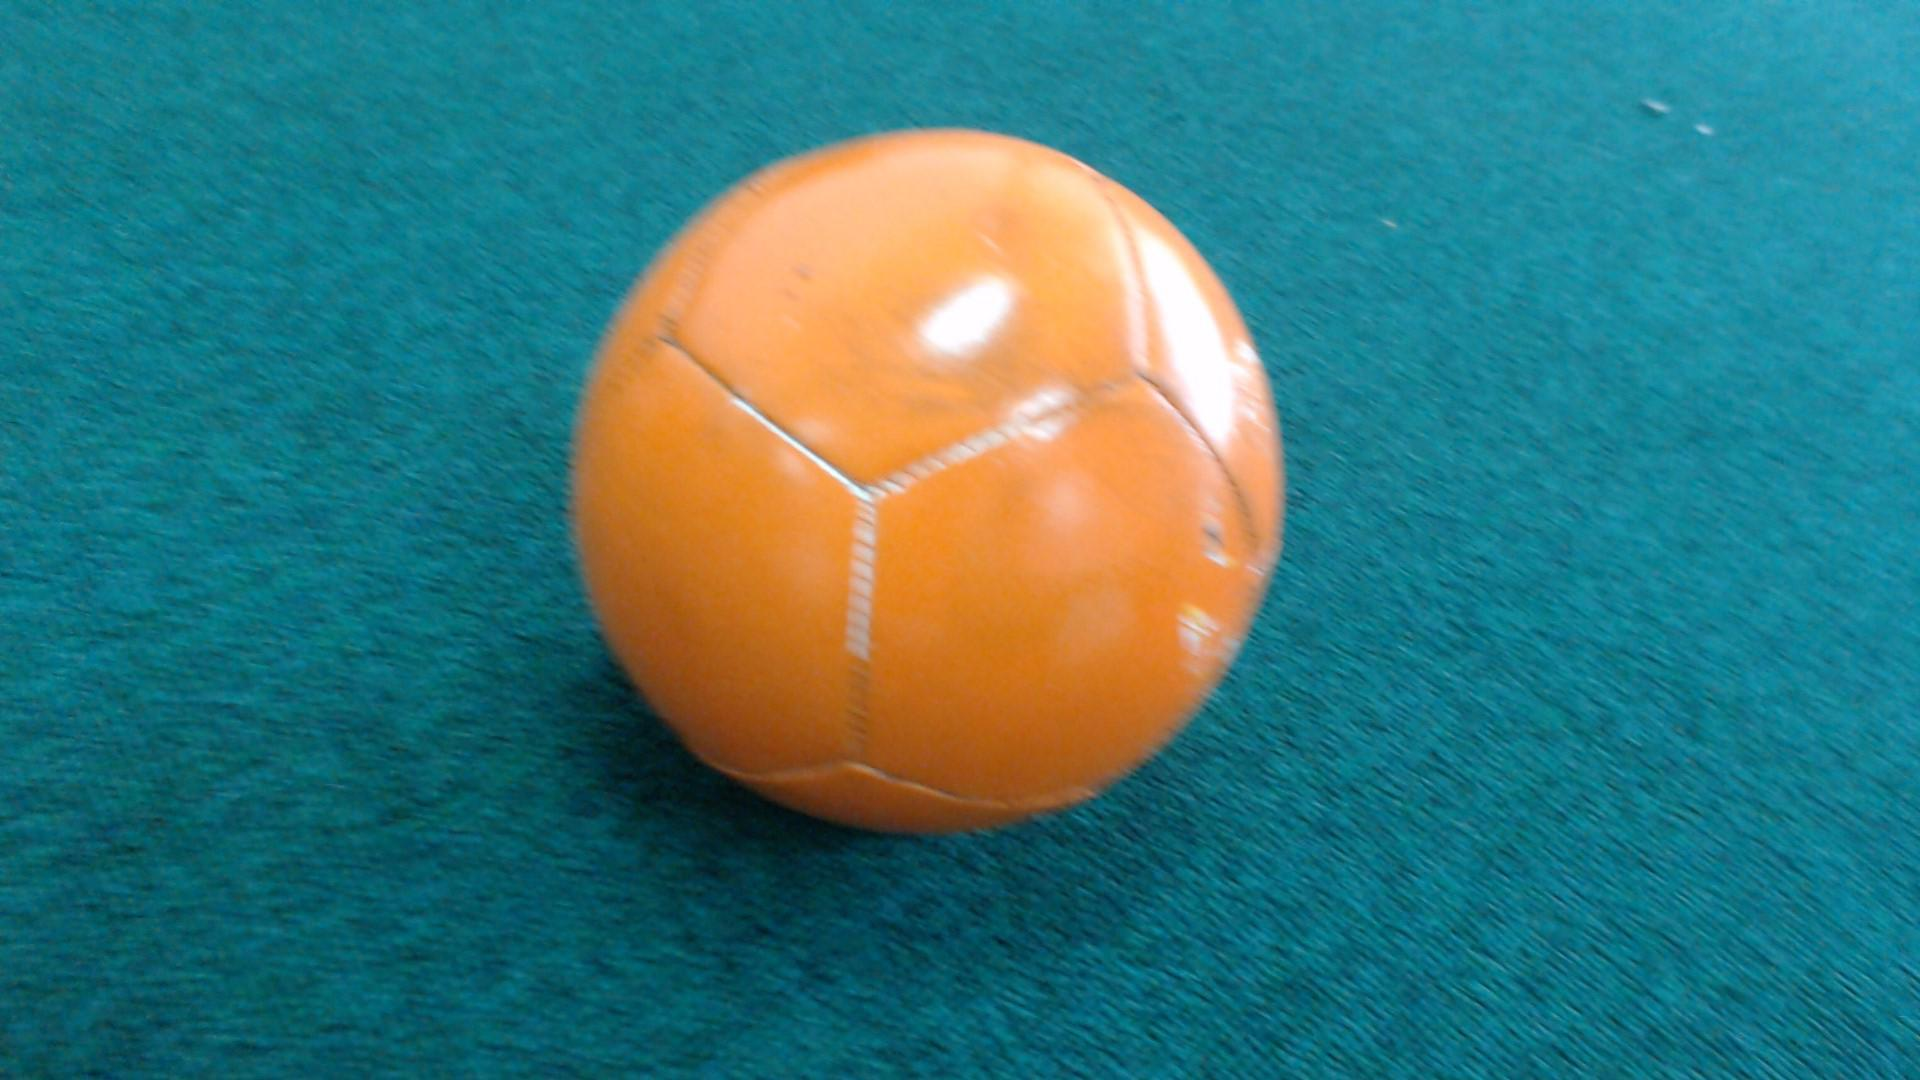bola: (545, 109, 1300, 870)
